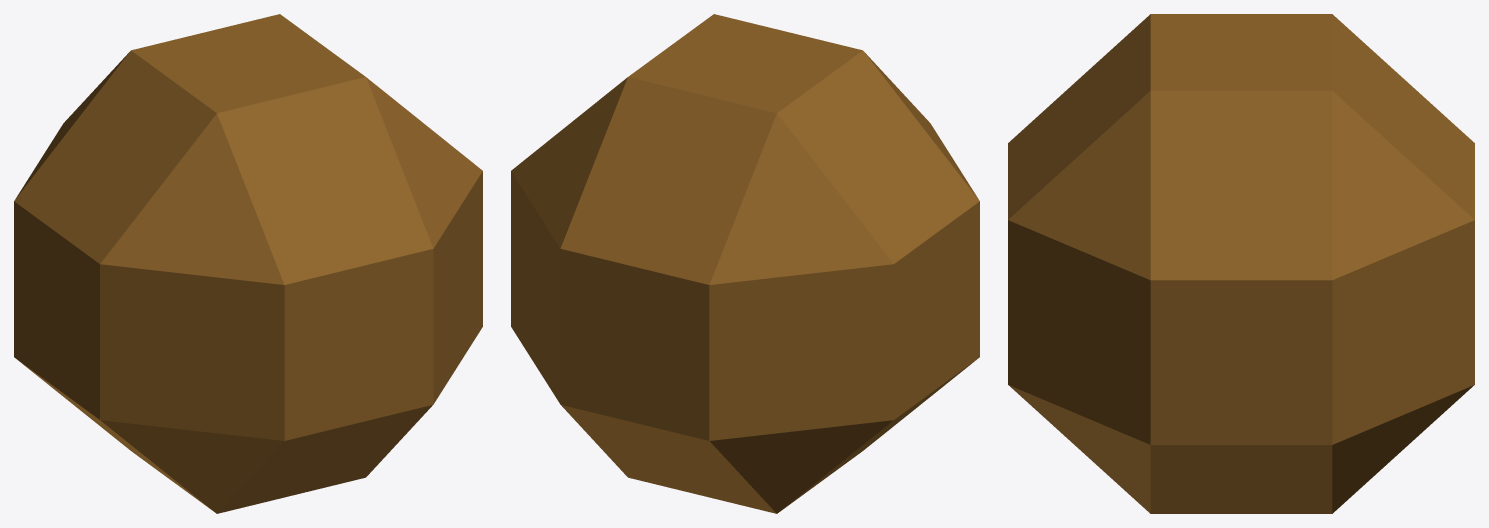
Rendered from GrosCailloux.fbx.
3 renders of one model, left to right at view 1: azimuth 30°, elevation 25°; view 2: azimuth 150°, elevation 25°; view 3: azimuth 270°, elevation 25°, orthographic. The views are drawn at different scales.
Parts seen in each view (by area): view 1: GrosCaillou; view 2: GrosCaillou; view 3: GrosCaillou.
Part boxes in pixels (x1,y1,x2,y2): GrosCaillou: (14, 14, 482, 513); GrosCaillou: (511, 14, 979, 513); GrosCaillou: (1008, 14, 1474, 513).
Size of the model in its own units: 161 by 161 by 161.
